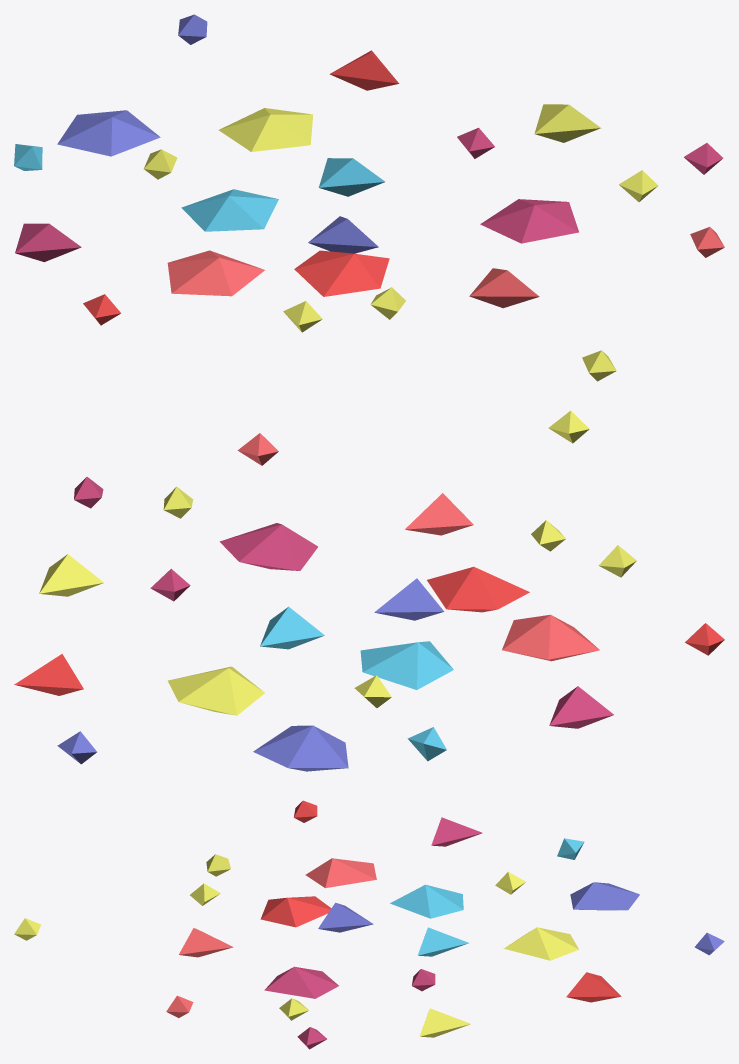
The model's file is ZLP_Flower_A_5.FBX.
3 renders of one model, top to bottom at view 1: azimuth 30°, elevation 25°; view 2: azimuth 150°, elevation 25°; view 3: azimuth 270°, elevation 25°, orthographic. The views are drawn at different scales.
Visible parts, largest first — view 1: ZLP_Flower_A_5; view 2: ZLP_Flower_A_5; view 3: ZLP_Flower_A_5.
Part boxes in pixels (x1,y1,x2,y2): ZLP_Flower_A_5: (14,14,724,381); ZLP_Flower_A_5: (14,410,724,771); ZLP_Flower_A_5: (14,800,724,1049).
Size of the model in its own units: 126 by 9.25 by 160.
